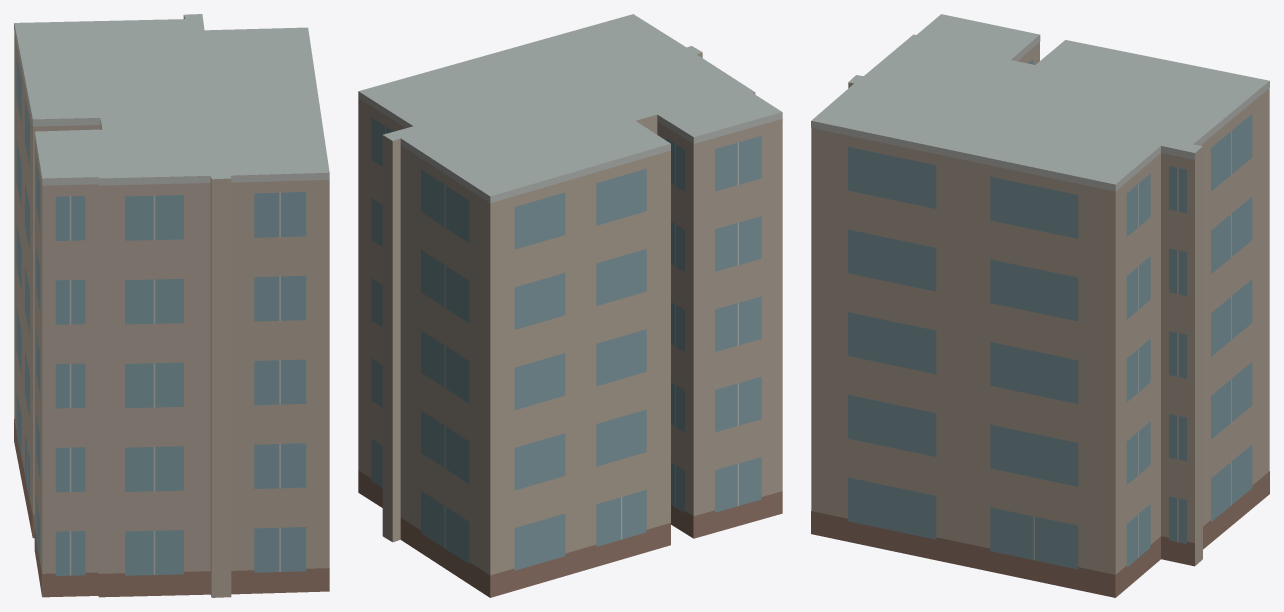
Rendered from survey-upis-32531530.glb.
3 renders of one model, left to right at view 1: azimuth 30°, elevation 25°; view 2: azimuth 150°, elevation 25°; view 3: azimuth 270°, elevation 25°, orthographic. The views are drawn at different scales.
Parts seen in each view (by area): view 1: survey-upis-32531530.tmp; view 2: survey-upis-32531530.tmp; view 3: survey-upis-32531530.tmp.
Part boxes in pixels (x1,y1,x2,y2): survey-upis-32531530.tmp: (14, 14, 329, 597); survey-upis-32531530.tmp: (358, 14, 782, 597); survey-upis-32531530.tmp: (811, 14, 1269, 597).
Bounding box in the file's own units: 12.76 × 14.4 × 14.49.
